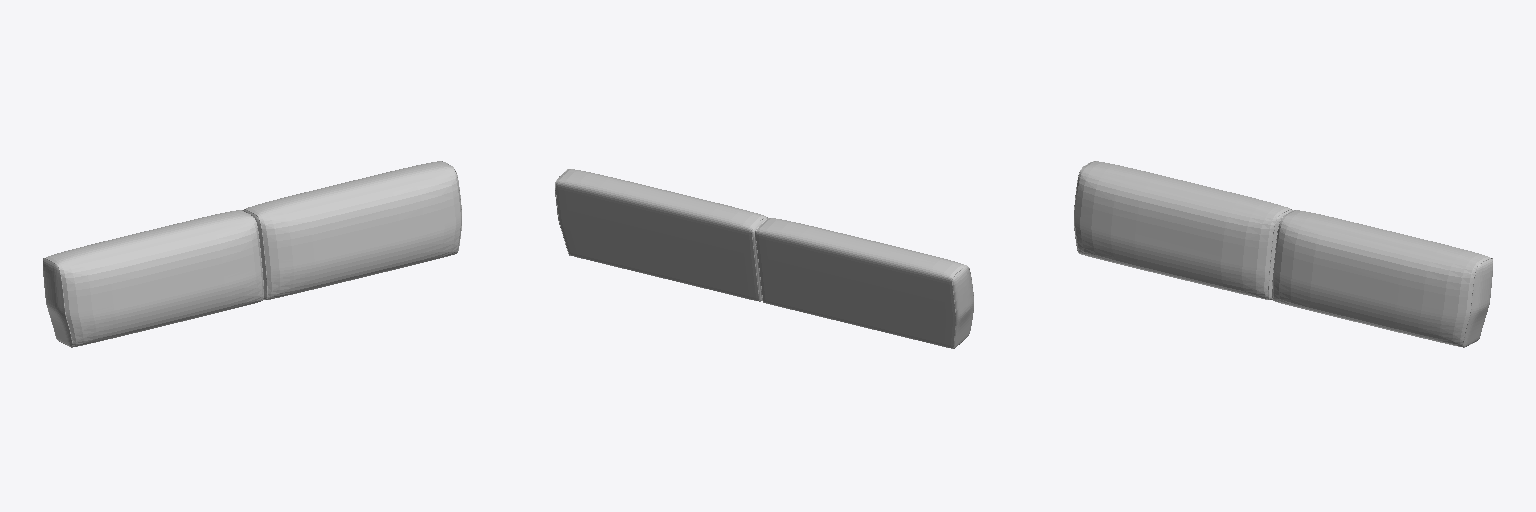
File: poshti.obj
3 views of the same model, side by side, from view 1: azimuth 30°, elevation 25°; view 2: azimuth 150°, elevation 25°; view 3: azimuth 330°, elevation 25° (orthographic).
Size of the model in its own units: 59.56 by 11.88 by 7.42.